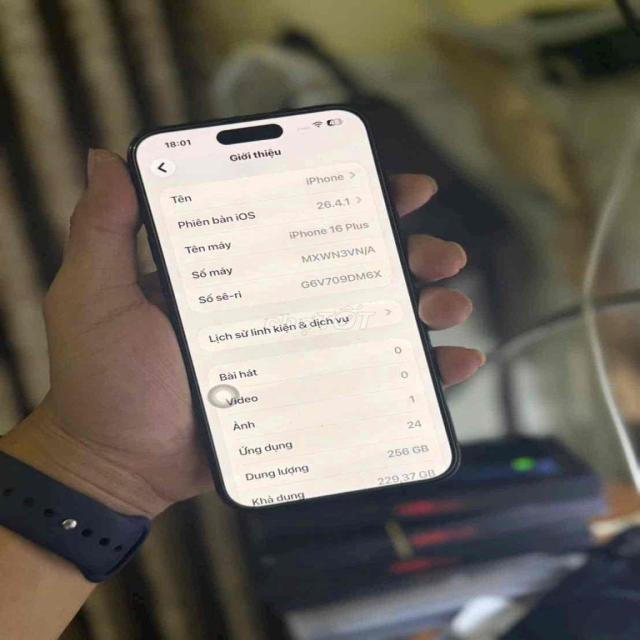gen_16: (130, 108, 457, 509)
